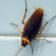cockroach: (20, 7, 44, 48)
